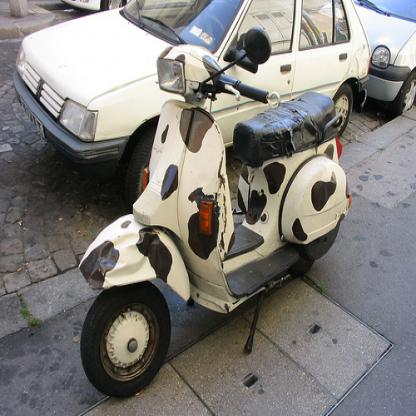car: (7, 2, 370, 210), (356, 0, 416, 116)
motorbike: (75, 21, 352, 399)
